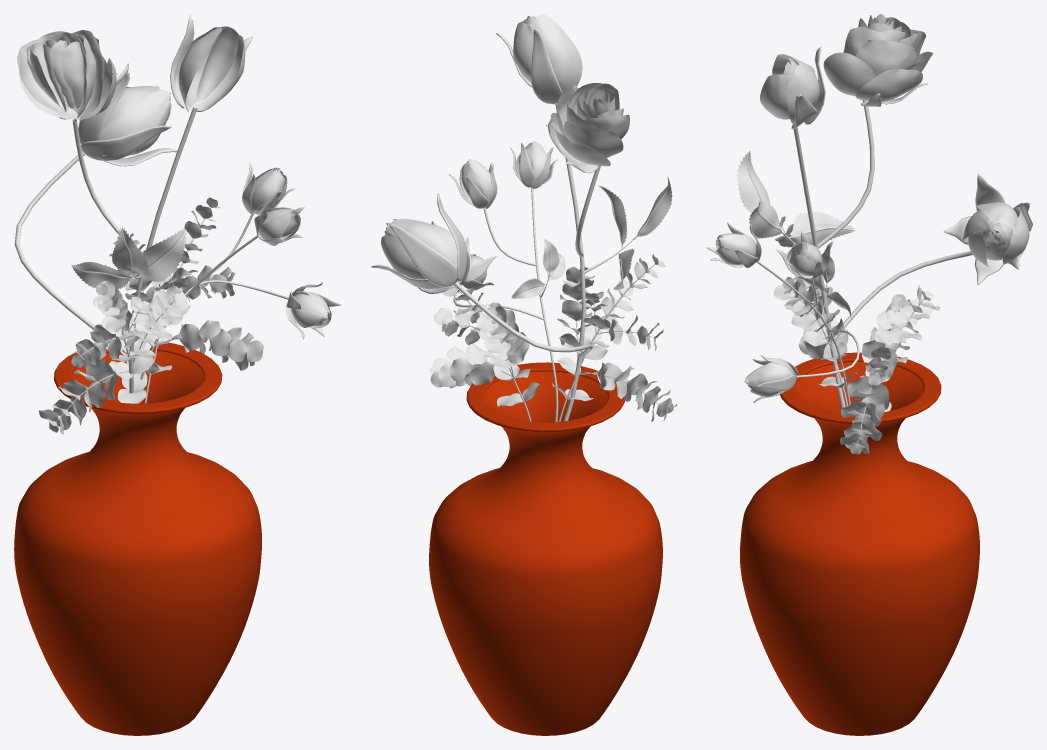
The model's file is candidate.chair.pottery-007-0ae2-006.glb.
The picture shows the model from 3 angles, left to right: view 1: azimuth 30°, elevation 25°; view 2: azimuth 150°, elevation 25°; view 3: azimuth 270°, elevation 25°; orthographic projection. The views are drawn at different scales.
Visible parts, largest first — view 1: Pottery.011, Flowers.042, Flowers.043, Flowers.041, Flowers.044; view 2: Pottery.011, Flowers.042, Flowers.043, Flowers.044, Flowers.041; view 3: Pottery.011, Flowers.042, Flowers.044, Flowers.041, Flowers.043.
Part boxes in pixels (x1=…): Pottery.011: x1=14, y1=343, x2=261, y2=735; Flowers.042: x1=14, y1=14, x2=252, y2=393; Flowers.043: x1=39, y1=281, x2=189, y2=434; Flowers.041: x1=140, y1=163, x2=341, y2=379; Flowers.044: x1=109, y1=197, x2=263, y2=403; Pottery.011: x1=429, y1=362, x2=662, y2=735; Flowers.042: x1=370, y1=14, x2=672, y2=421; Flowers.043: x1=552, y1=254, x2=677, y2=421; Flowers.044: x1=430, y1=286, x2=539, y2=421; Flowers.041: x1=448, y1=141, x2=565, y2=422; Pottery.011: x1=740, y1=352, x2=979, y2=735; Flowers.042: x1=736, y1=14, x2=1032, y2=407; Flowers.044: x1=840, y1=286, x2=940, y2=454; Flowers.041: x1=706, y1=222, x2=859, y2=405; Flowers.043: x1=773, y1=216, x2=857, y2=406.
Bounding box in the file's own units: 0.2451 × 0.6267 × 0.2696.
